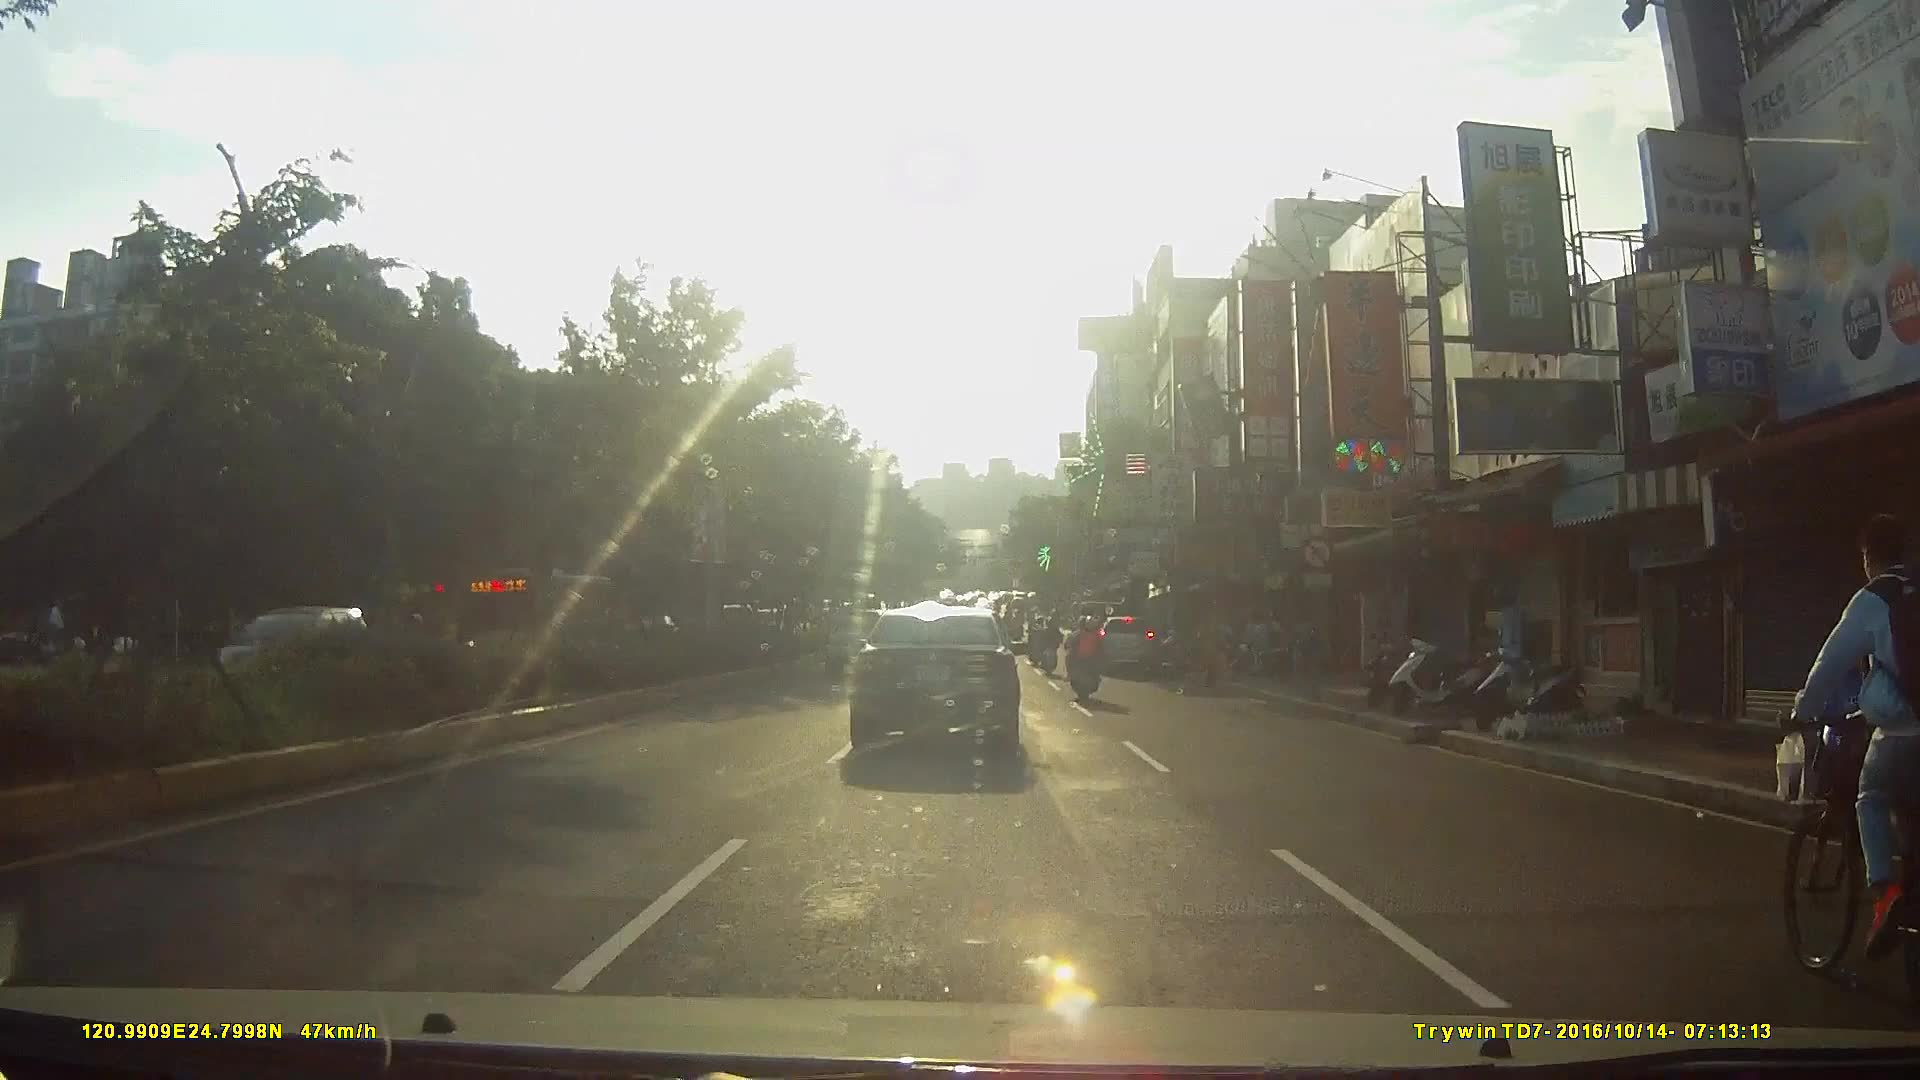pedestrian: (1488, 587, 1528, 687)
rider: (1774, 516, 1920, 1030), (1062, 612, 1107, 709), (1034, 613, 1063, 680)
vehicle: (845, 593, 1041, 767), (1090, 606, 1165, 674)
